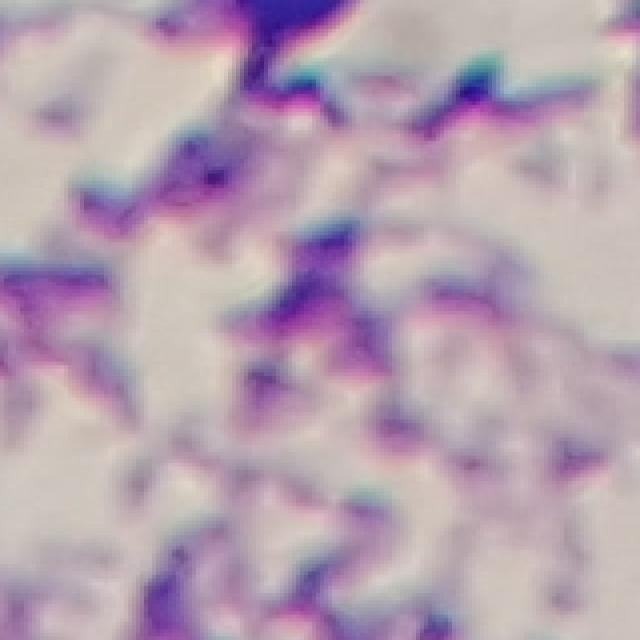non-sperm: (62, 112, 514, 518)
